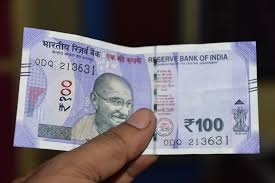hundred: (31, 49, 239, 134)
